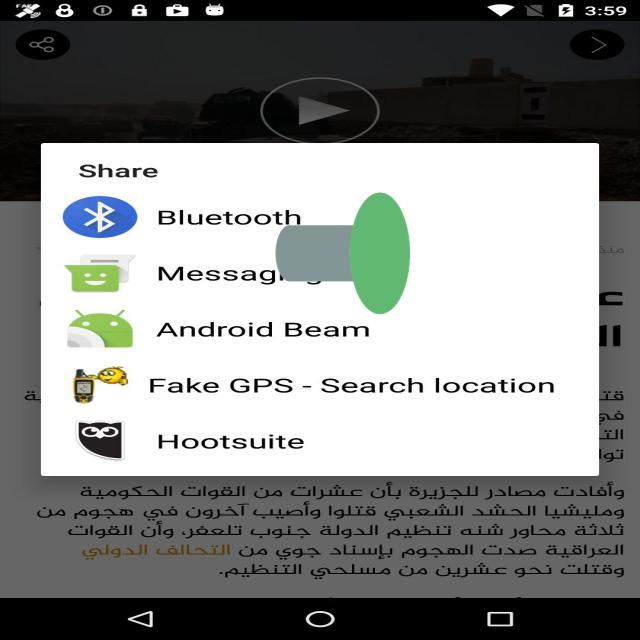social proof: (276, 118, 410, 389)
